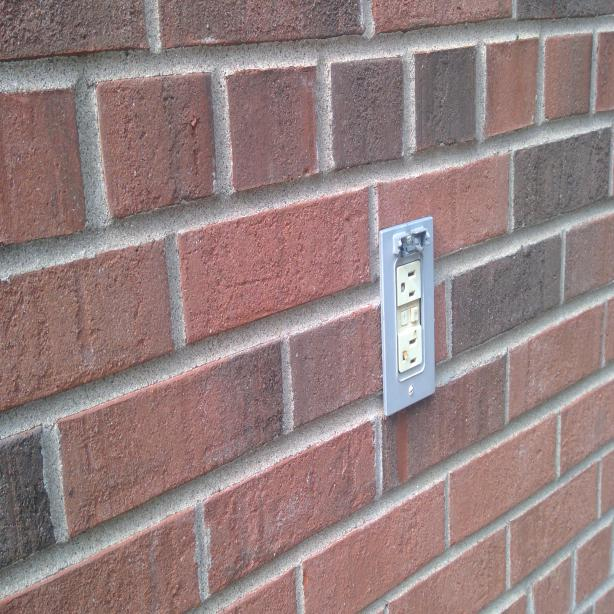typeb: (397, 328, 423, 370), (397, 264, 421, 304)
